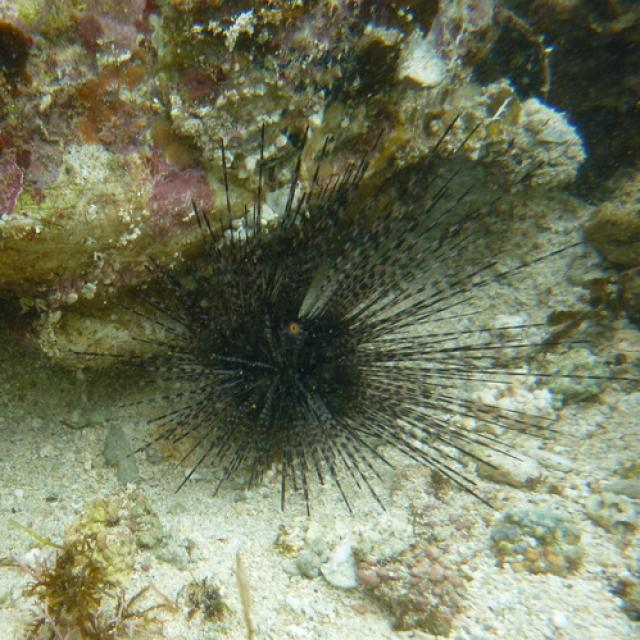Urchin: (57, 120, 640, 515)
